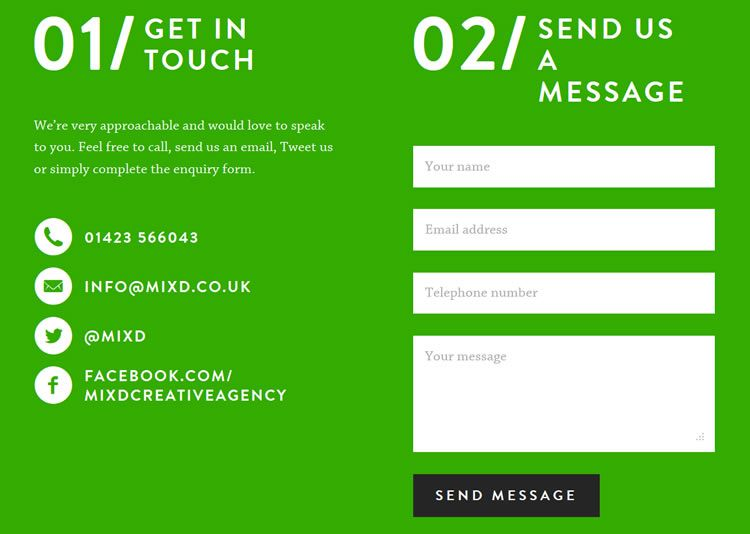_form_: (320, 115, 736, 531), (17, 103, 397, 420)
button: (412, 473, 601, 518)
field: (411, 334, 716, 453), (411, 208, 717, 252), (413, 143, 715, 187), (412, 272, 717, 315)
